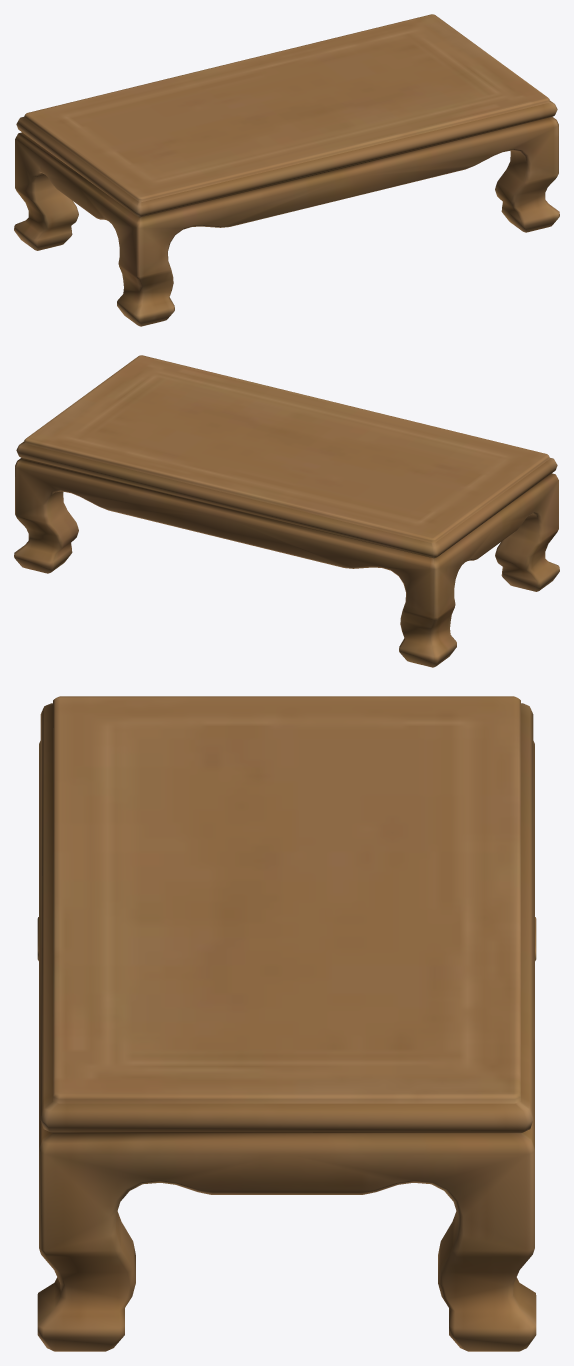
The picture shows the model from 3 angles, top to bottom: view 1: azimuth 30°, elevation 25°; view 2: azimuth 150°, elevation 25°; view 3: azimuth 270°, elevation 25°; orthographic projection. The views are drawn at different scales.
Size of the model in its own units: 17.98 by 5.2 by 9.16.
Materials: 1 (1 with a texture image).
